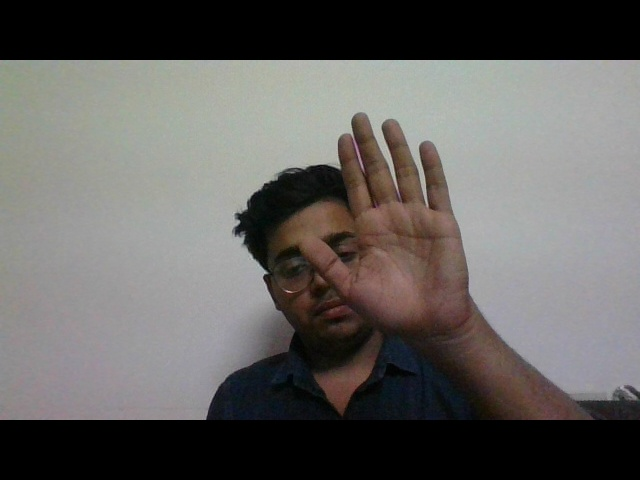Hello: (291, 102, 501, 350)
